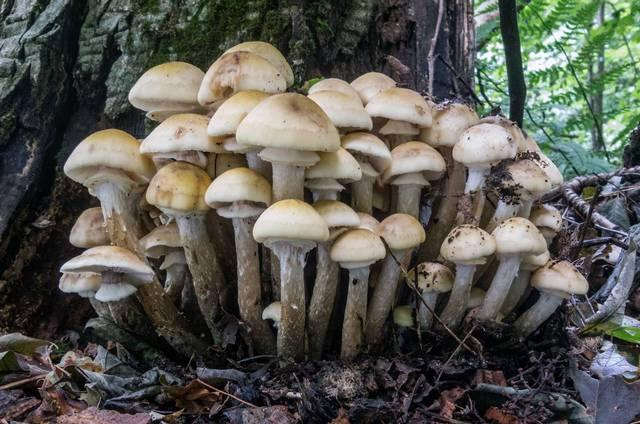edible_mushroom: (58, 39, 589, 362)
